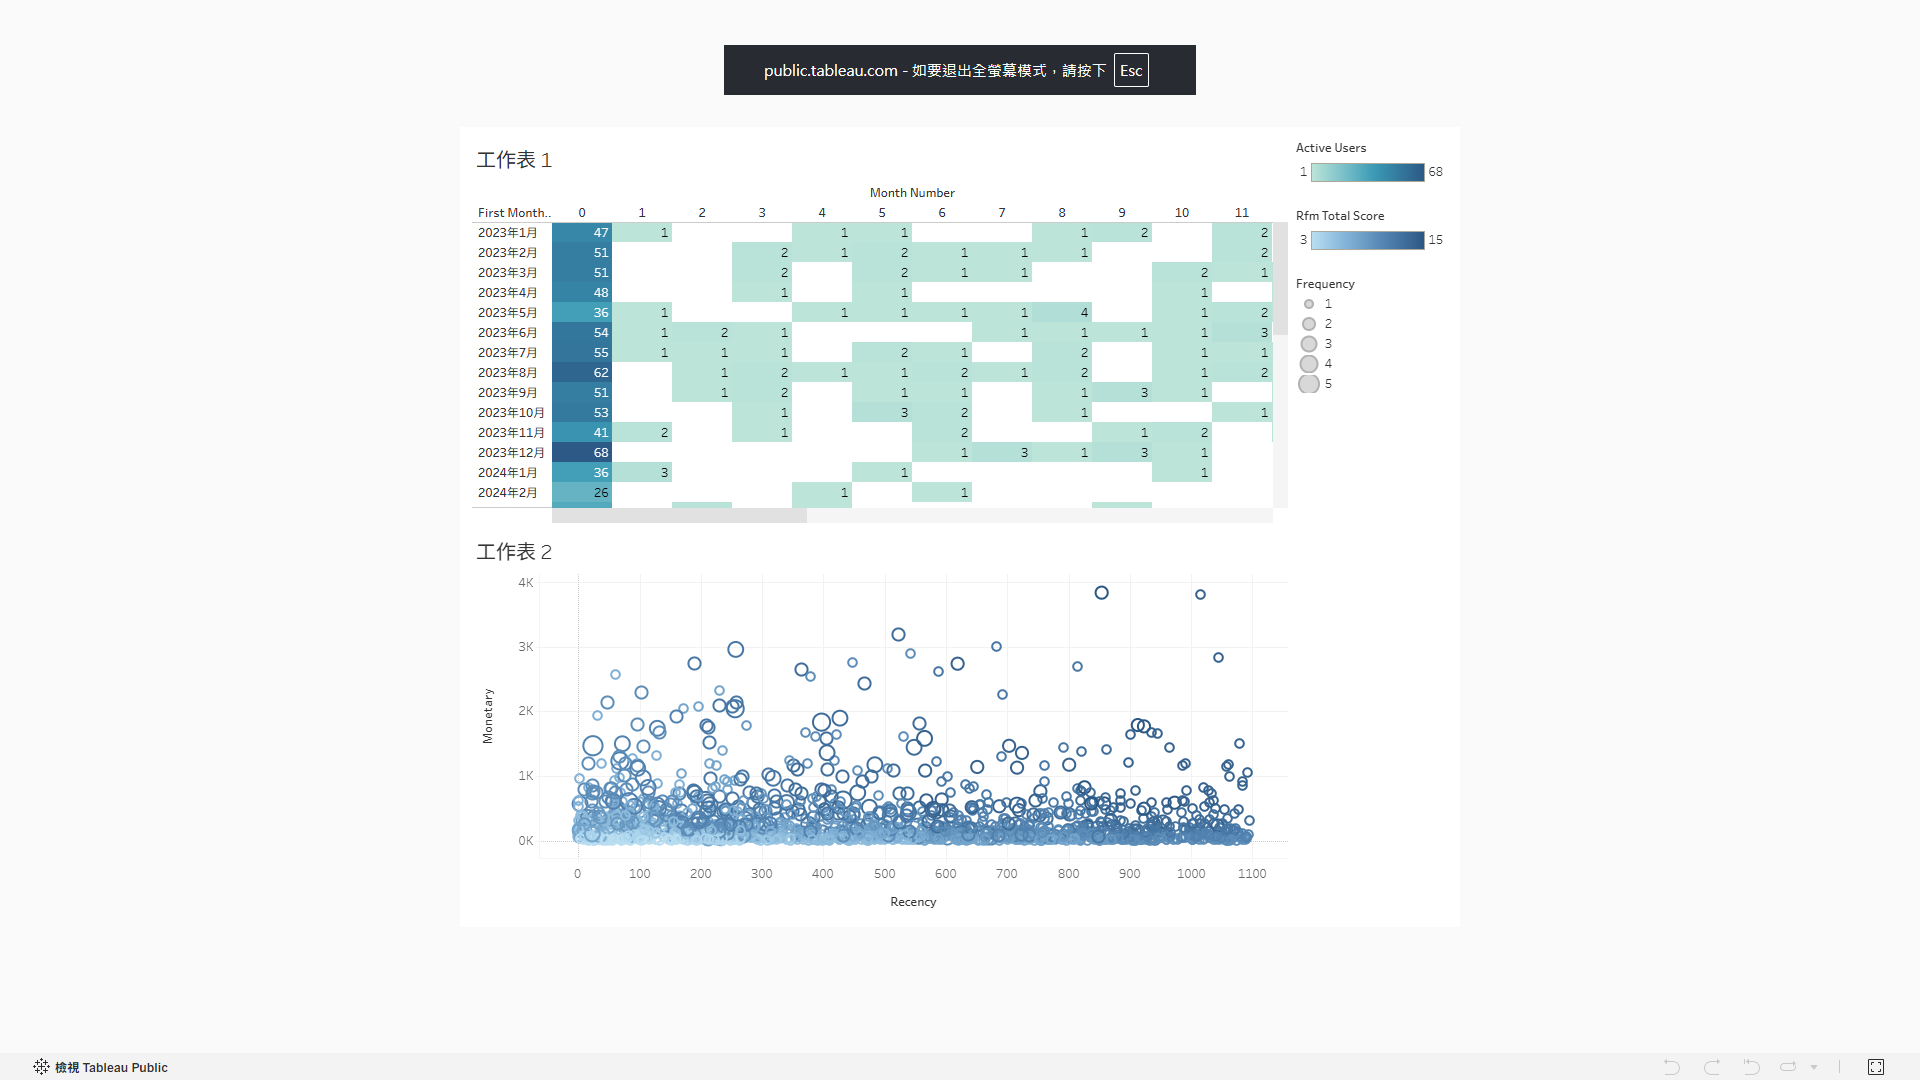

The page's visual inventory and layout, read from the dashboard file:
{"tool":"tableau","page":{"name":"儀表板 1","canvas":[1000,800],"ordinal":0},"visuals":[{"type":"worksheet","title":"工作表 1","mark":"Square","rows":["first_month"],"cols":["month_number"],"box":[8,8,824,392]},{"type":"legend","title":"工作表 1","param":"[federated.1chh2fi1xfncfr17wy7ka0y0hxvf].[sum:active_users:qk]","box":[832,8,160,68]},{"type":"legend","title":"工作表 2","param":"[federated.0qdlk150uzl5lx1401ckp1r8wxth].[sum:rfm_total_score:qk]","box":[832,76,160,68]},{"type":"legend","title":"工作表 2","param":"[federated.0qdlk150uzl5lx1401ckp1r8wxth].[sum:frequency:qk]","box":[832,144,160,127]},{"type":"worksheet","title":"工作表 2","mark":"Automatic","rows":["monetary"],"cols":["recency"],"box":[8,400,824,392]}]}

Visuals, with their boxes on the page's 1000x800 design canvas (x1, y1, x2, y2). These are canvas units, not pixel positions in the 1920x1080 screenshot, which may show the page scaled, cropped or inside an application window:
"工作表 1" worksheet (Square marks): <box>8,8,832,400</box>
"工作表 1" legend: <box>832,8,992,76</box>
"工作表 2" legend: <box>832,76,992,144</box>
"工作表 2" legend: <box>832,144,992,271</box>
"工作表 2" worksheet: <box>8,400,832,792</box>
